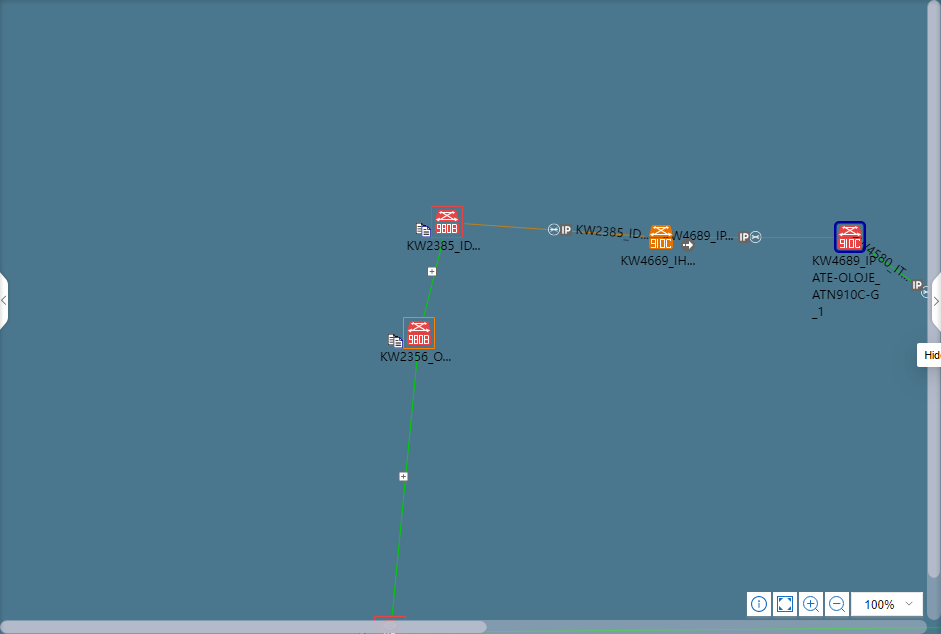ATN_Orange: (649, 225, 672, 249)
ATN_Red: (834, 223, 865, 252), (435, 209, 460, 235), (407, 320, 431, 347)
Link_Green: (391, 351, 419, 615), (422, 239, 445, 316), (867, 248, 911, 283), (677, 236, 833, 240)
Link_Orange: (464, 223, 644, 238)
